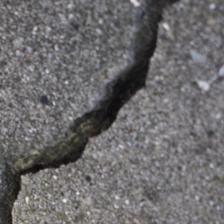Crack: (6, 3, 175, 222)
